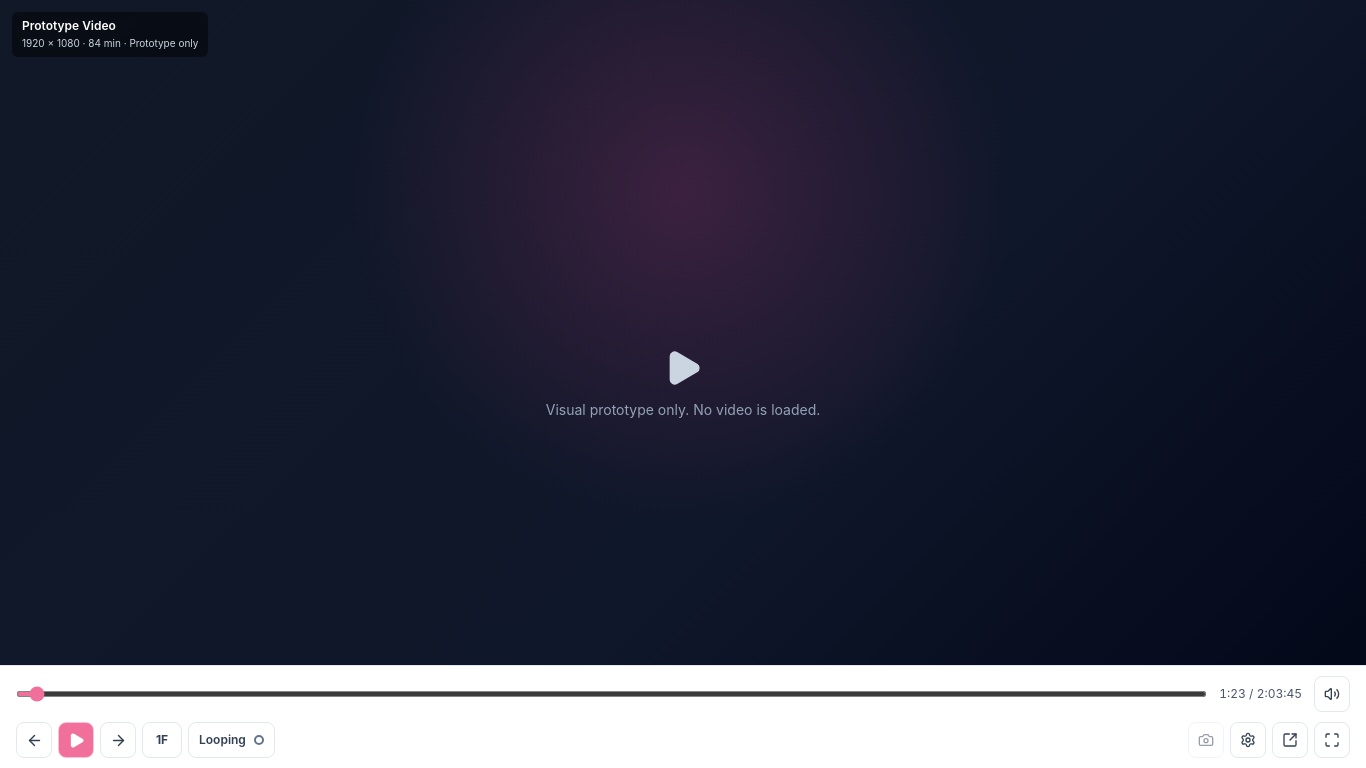
Test: VideoPlayerPrototype › keeps Volume open across its shared hover bridge and while focused
Hover over the element with test id "volume-control".
mouse_move(1332, 694)  # box [1314,676,1350,712]
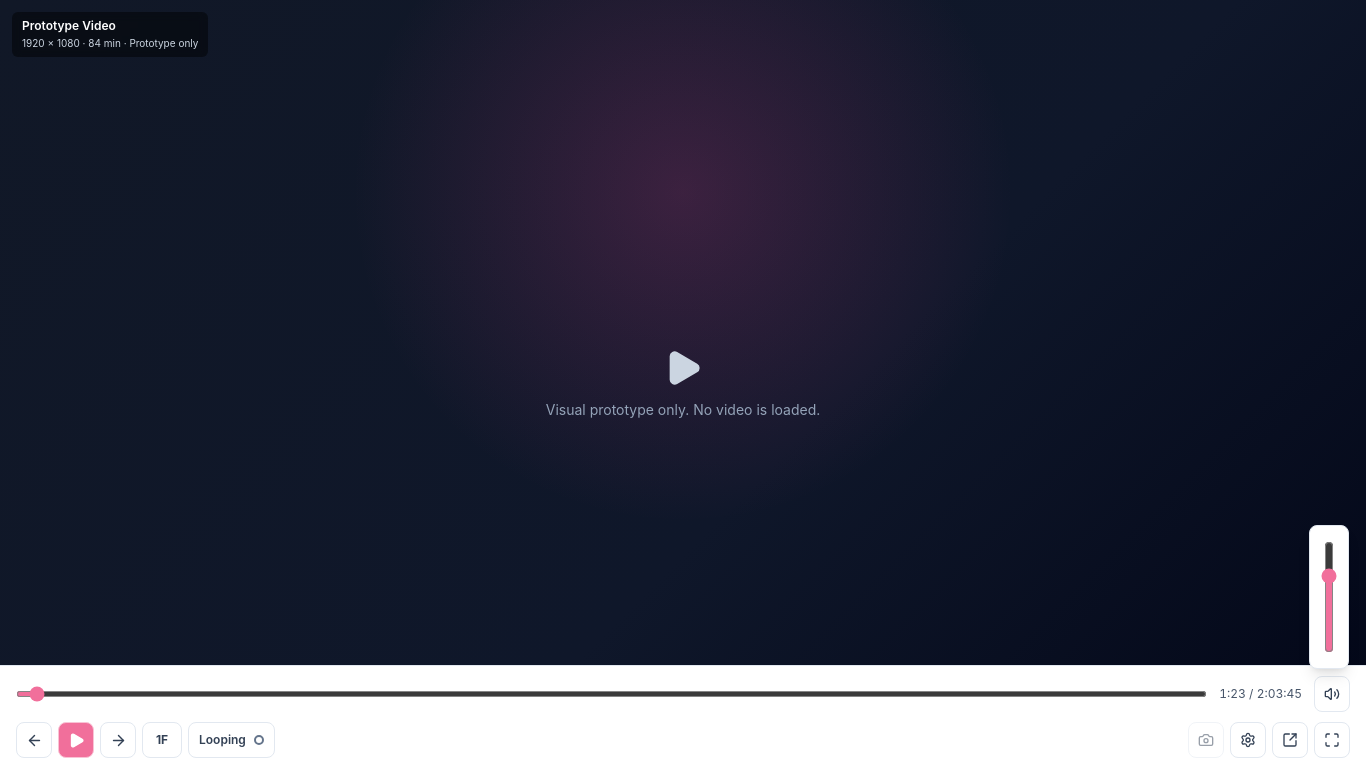
Move the pointer off the element with test id "volume-control", box [1314,676,1350,712]
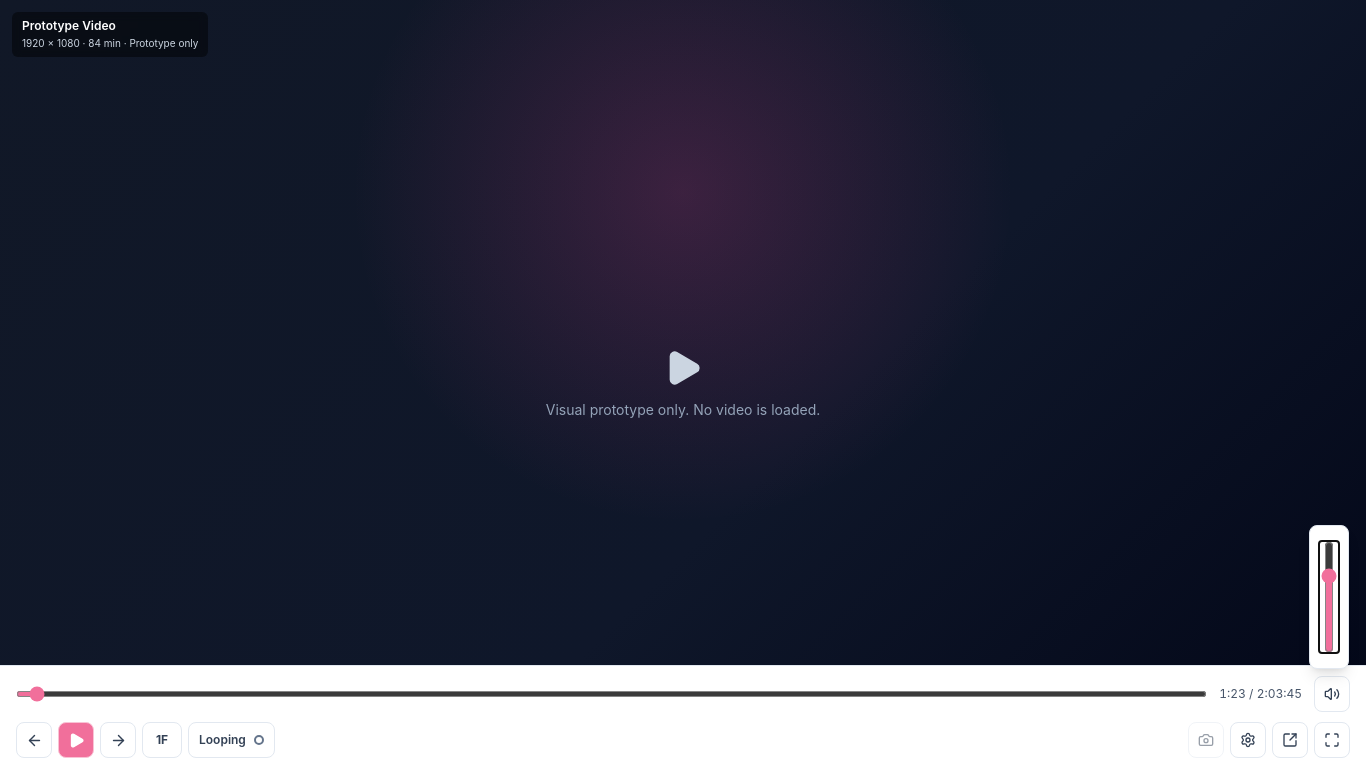
Expected: the element with test id "volume-vertical-slider" is shown, [1309,525,1349,669]
Move the pointer off the element with test id "volume-control", box [1314,676,1350,712]
Expected: the element with test id "volume-vertical-slider" is shown, [1309,525,1349,669]
Click the button named "Mute".
click(1332, 694)  # box [1316,678,1348,710]
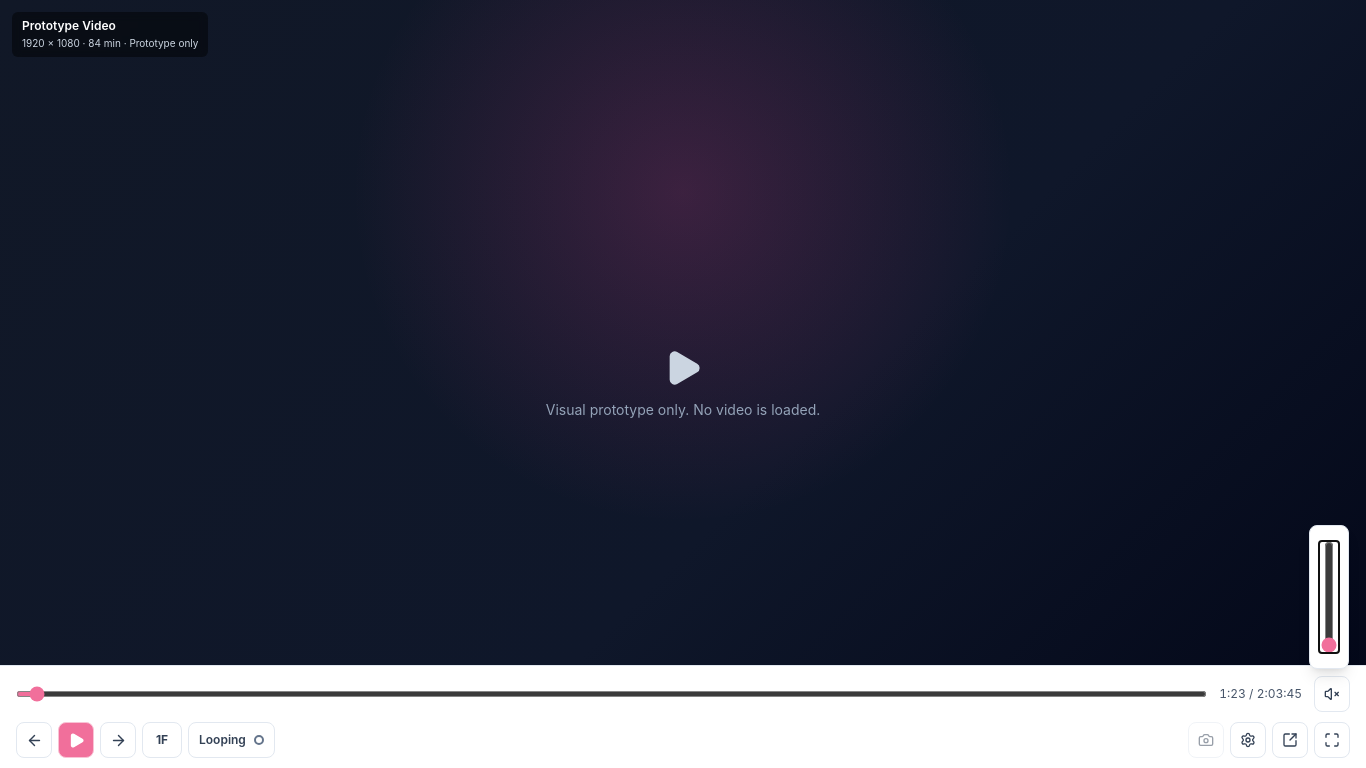
Expected: the button named "Unmute" is pressed
Click the button named "Unmute".
click(1332, 694)  # box [1316,678,1348,710]
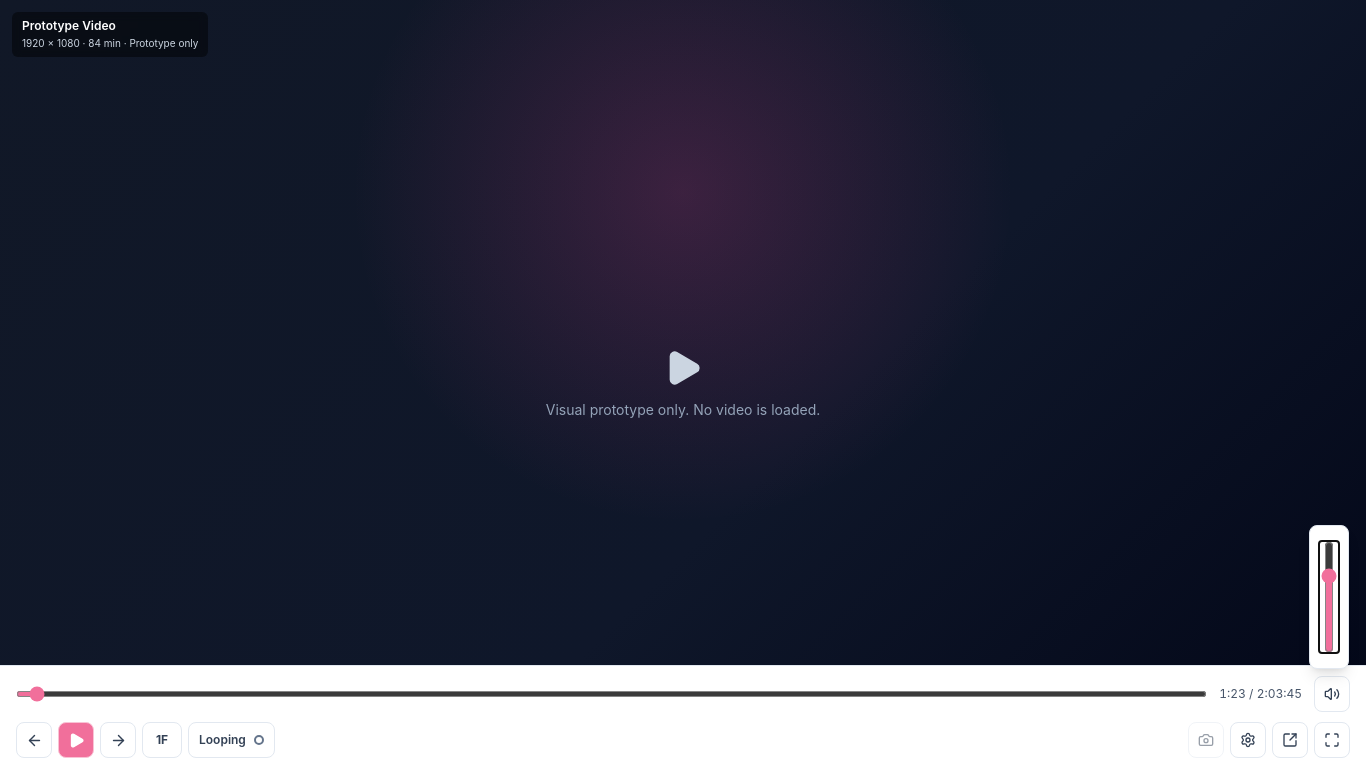
Expected: the 1st slider named "Mock volume" holds "72", [1319,541,1339,653]
